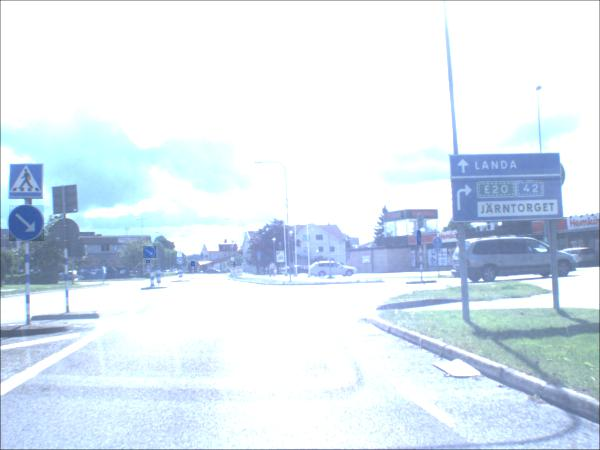PASS_RIGHT_SIDE: (10, 206, 46, 243), (144, 247, 158, 260), (418, 231, 423, 247), (178, 259, 184, 266), (192, 262, 197, 268)
PEDESTRIAN_CROSSING: (12, 165, 44, 201), (178, 253, 184, 259), (147, 261, 152, 265), (233, 258, 237, 262)
PRIORITY_ROAD: (232, 264, 237, 268)
